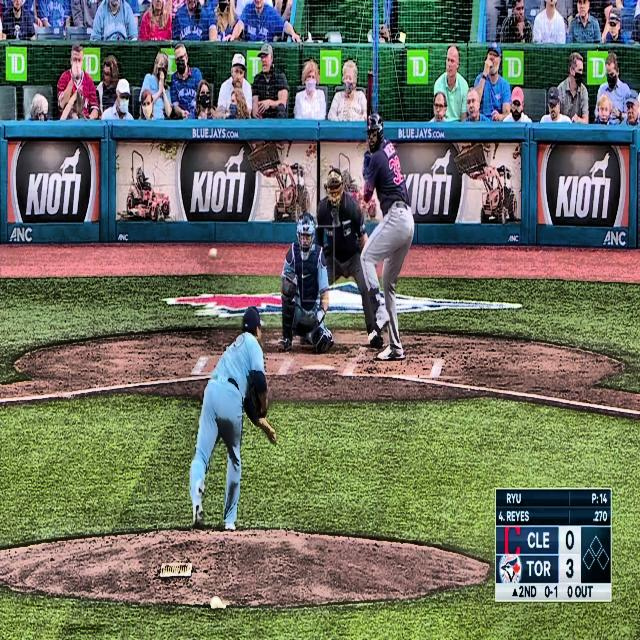baseball: (208, 246, 218, 261)
